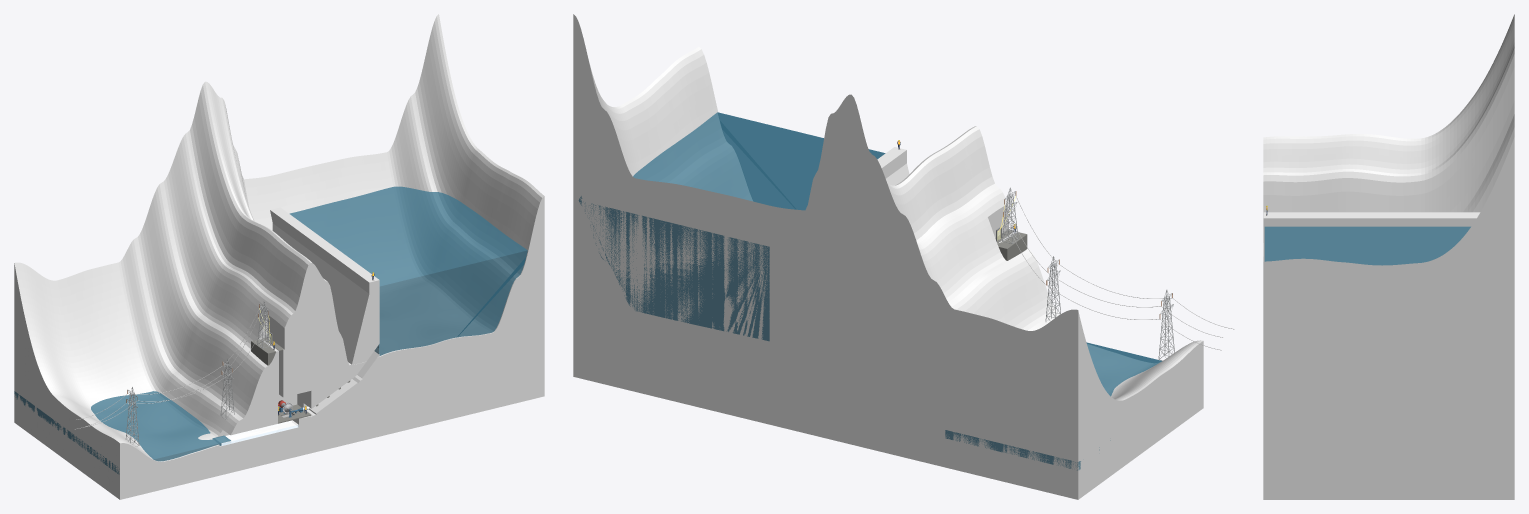
Rendered from pelton.glb.
3 renders of one model, left to right at view 1: azimuth 30°, elevation 25°; view 2: azimuth 150°, elevation 25°; view 3: azimuth 270°, elevation 25°, orthographic. The views are drawn at different scales.
Parts seen in each view (by area): view 1: Mountain, Reservoir_Water, Dam, River_Water, Tailrace_Water; view 2: Mountain, Reservoir_Water, River_Water, Dam; view 3: Mountain, Dam, Reservoir_Water.
Boxes of the visible parts, box(x1,y1,x2,y2) form: Mountain: box(14, 14, 544, 499); Reservoir_Water: box(289, 186, 527, 355); Dam: box(270, 207, 379, 378); River_Water: box(14, 391, 230, 474); Tailrace_Water: box(215, 420, 298, 445); Mountain: box(573, 14, 1203, 499); Reservoir_Water: box(578, 112, 885, 341); River_Water: box(945, 342, 1161, 470); Dam: box(769, 147, 909, 357); Mountain: box(1263, 14, 1514, 499); Dam: box(1263, 212, 1480, 264); Reservoir_Water: box(1264, 226, 1470, 265).
Bounding box in the file's own units: 105 × 67.32 × 42.2.
